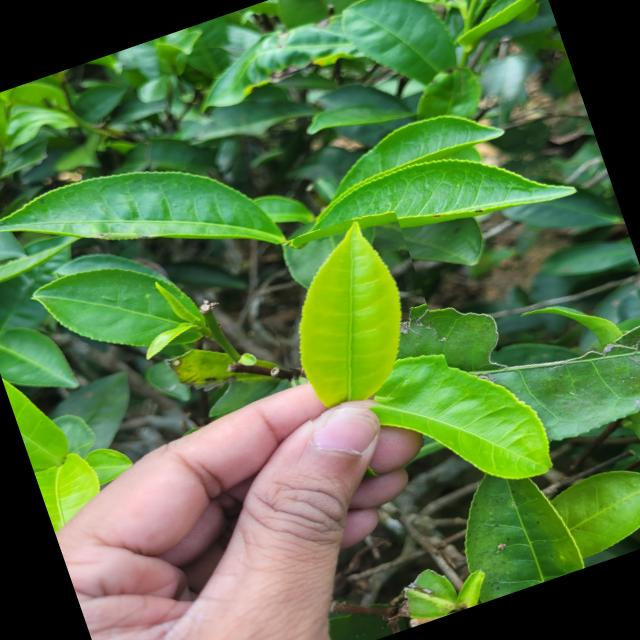Catagory A(1-2 days): (243, 204, 454, 433)
